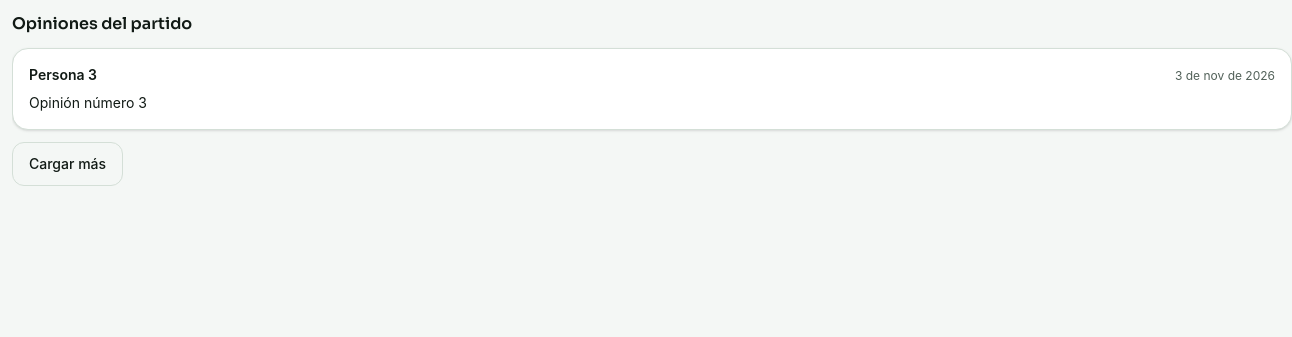
Scenario: Cargar más › encadena varias páginas con el cursor de cada una
The image size is (1292, 337).
expect the text "Opinión número 3" is shown: met, box [29, 94, 147, 111]
Click the button "Cargar más" at (68, 164), box [12, 142, 123, 186]
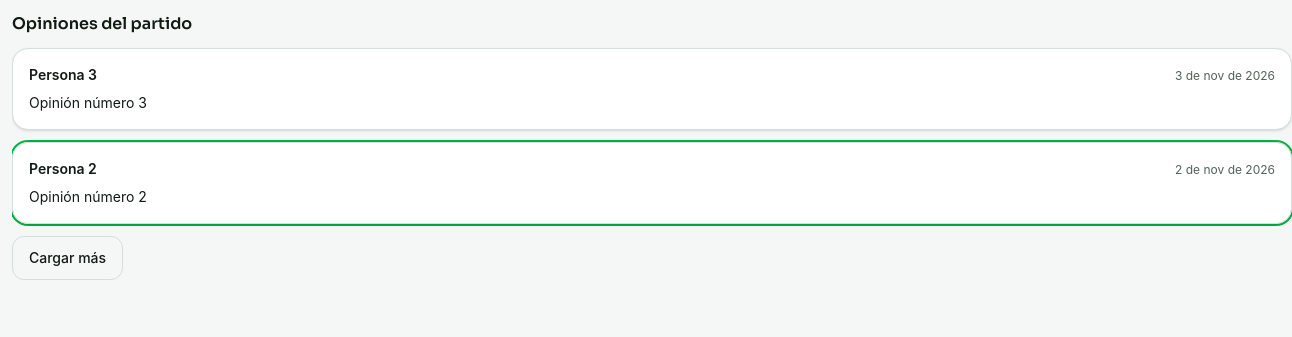
expect the text "Opinión número 2" is shown: met, box [29, 188, 147, 205]
Click the button "Cargar más" at (68, 258), box [12, 236, 123, 280]
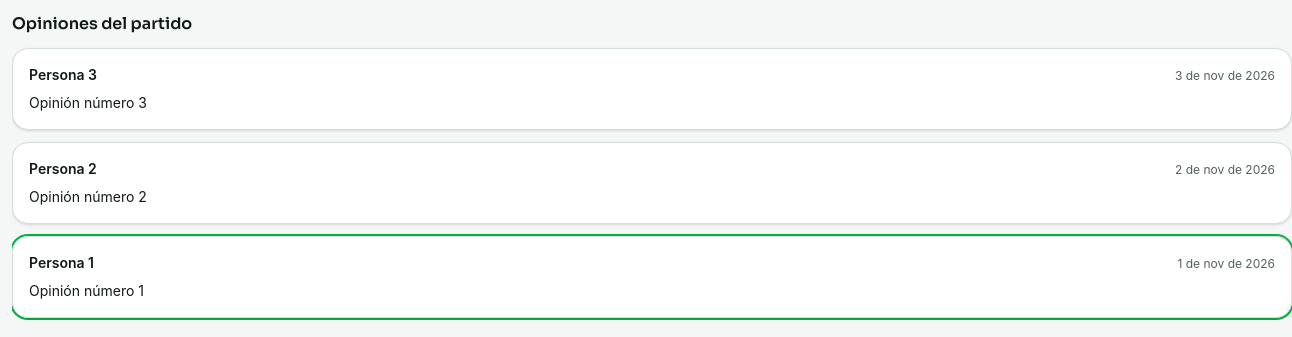
expect the text "Opinión número 1" is shown: met, box [29, 282, 144, 299]
expect the number of list items is 3: met, box [12, 48, 1291, 130]; [12, 142, 1291, 224]; [12, 236, 1291, 318]
